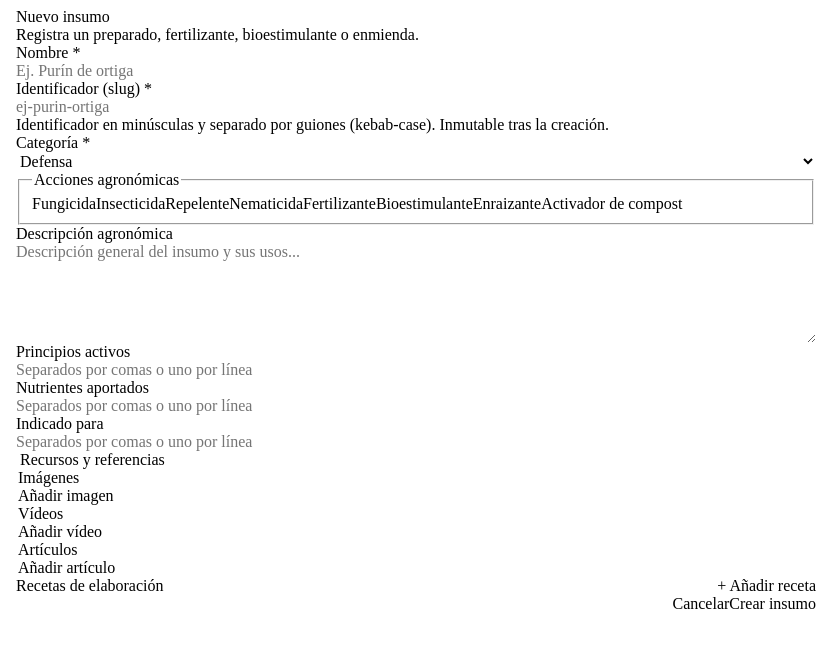
Scenario: GardenInputCreatePage › shows client validation errors when submitting with empty required fields
Click the button "Crear insumo": (773, 604) [729,595,816,613]
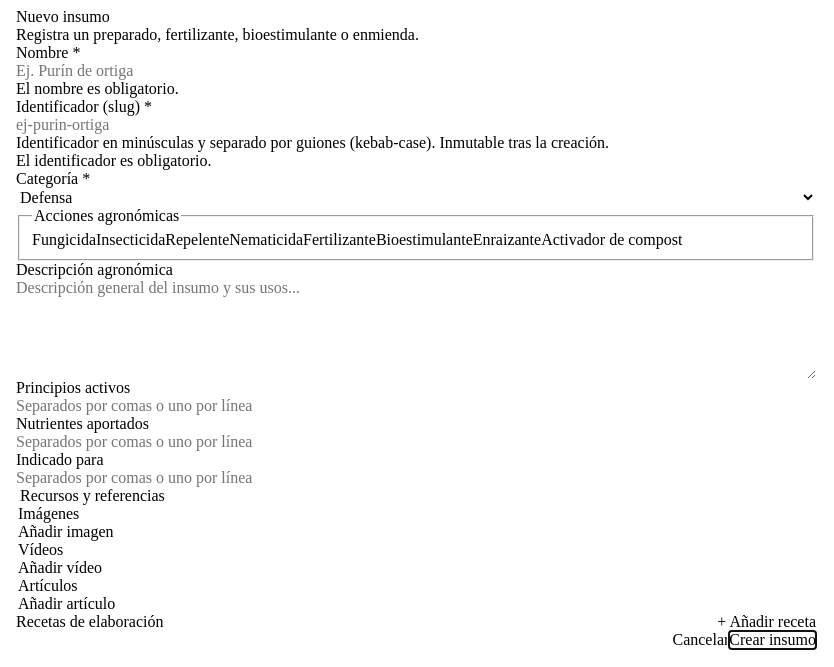
Now the text "El nombre es obligatorio." is shown, box [16,80,179,97]
Now the text "El identificador es obligatorio." is shown, box [16,152,212,169]
